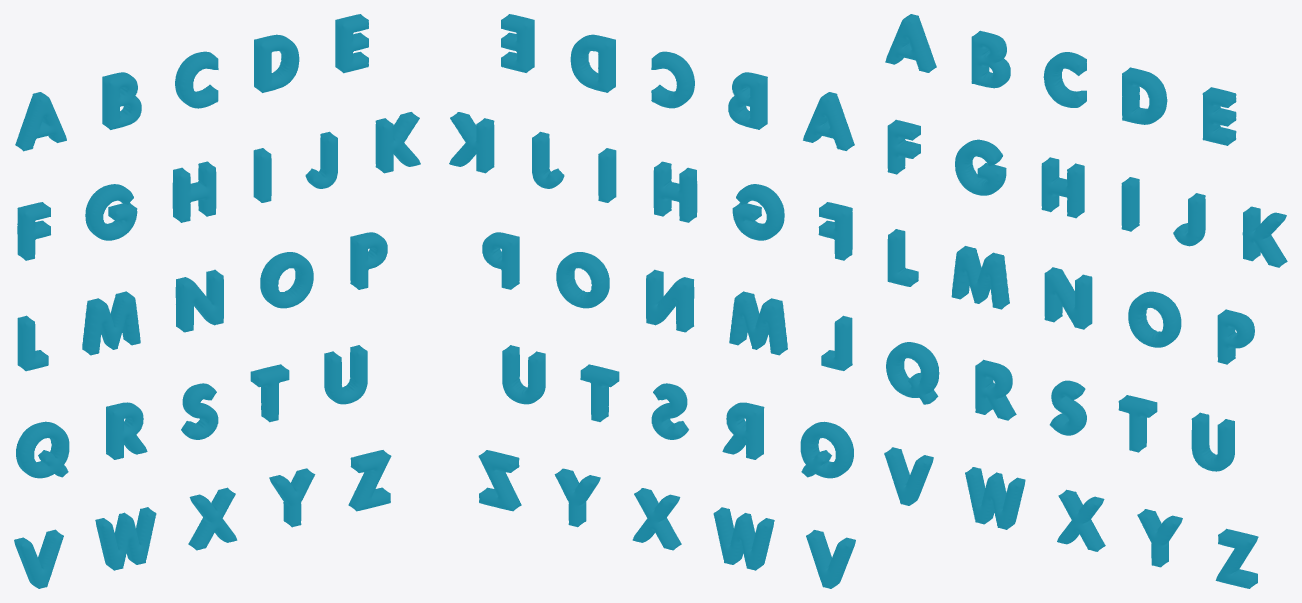
File: alphabet.glb
The picture shows the model from 3 angles, left to right: view 1: azimuth 30°, elevation 25°; view 2: azimuth 150°, elevation 25°; view 3: azimuth 330°, elevation 25°; orthographic projection.
Visible parts, largest first — view 1: Text; view 2: Text; view 3: Text.
Part boxes in pixels (x1,y1,x2,y2): Text: (14, 14, 420, 588); Text: (449, 14, 855, 588); Text: (884, 14, 1287, 588).
Bounding box in the file's own units: 4.92 × 5.81 × 0.2239.
